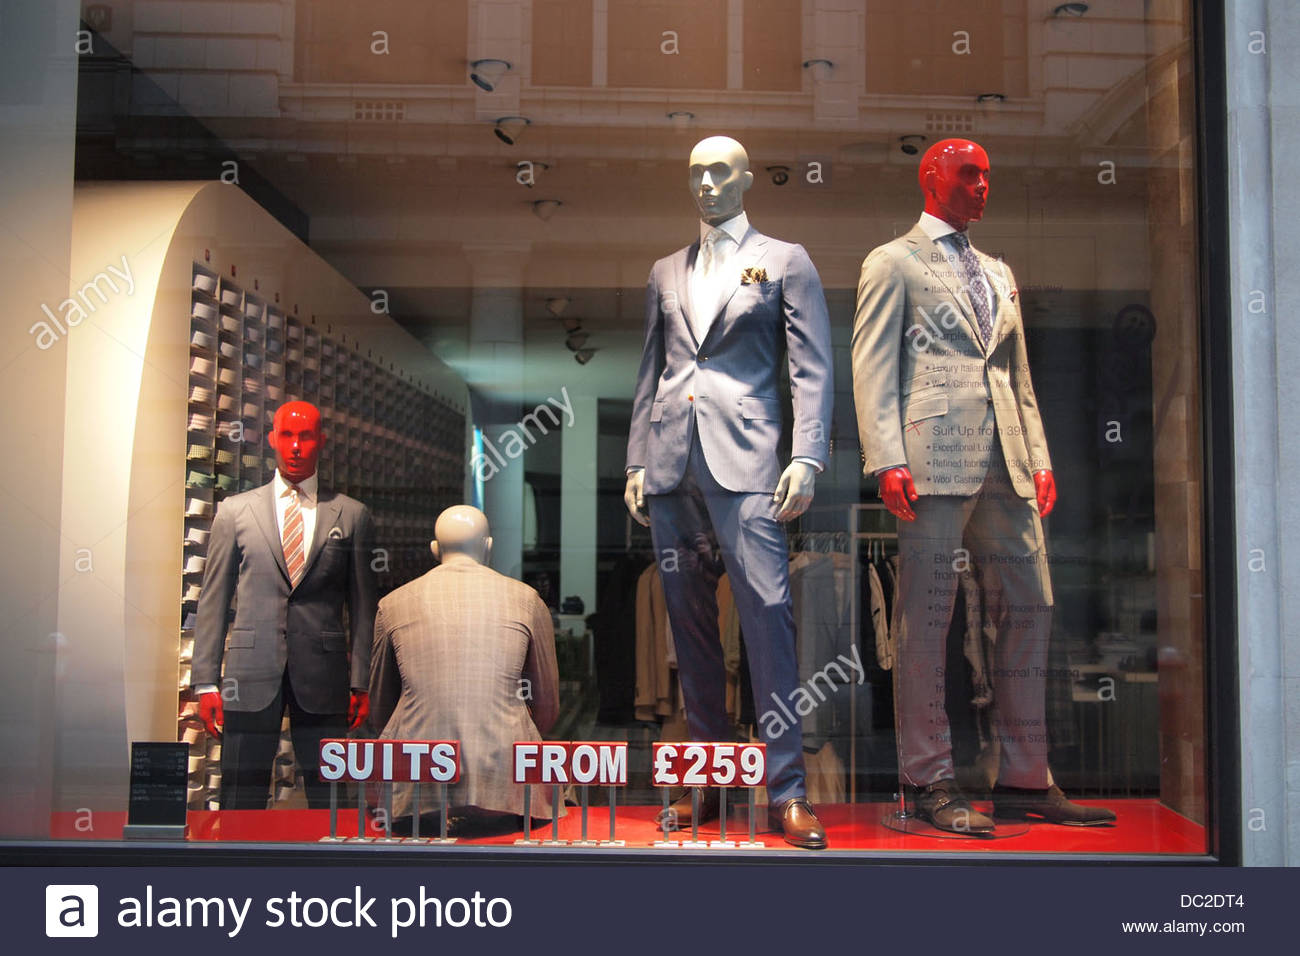person-like: (842, 129, 1127, 844), (616, 124, 844, 851), (186, 389, 386, 808), (368, 496, 569, 837)
